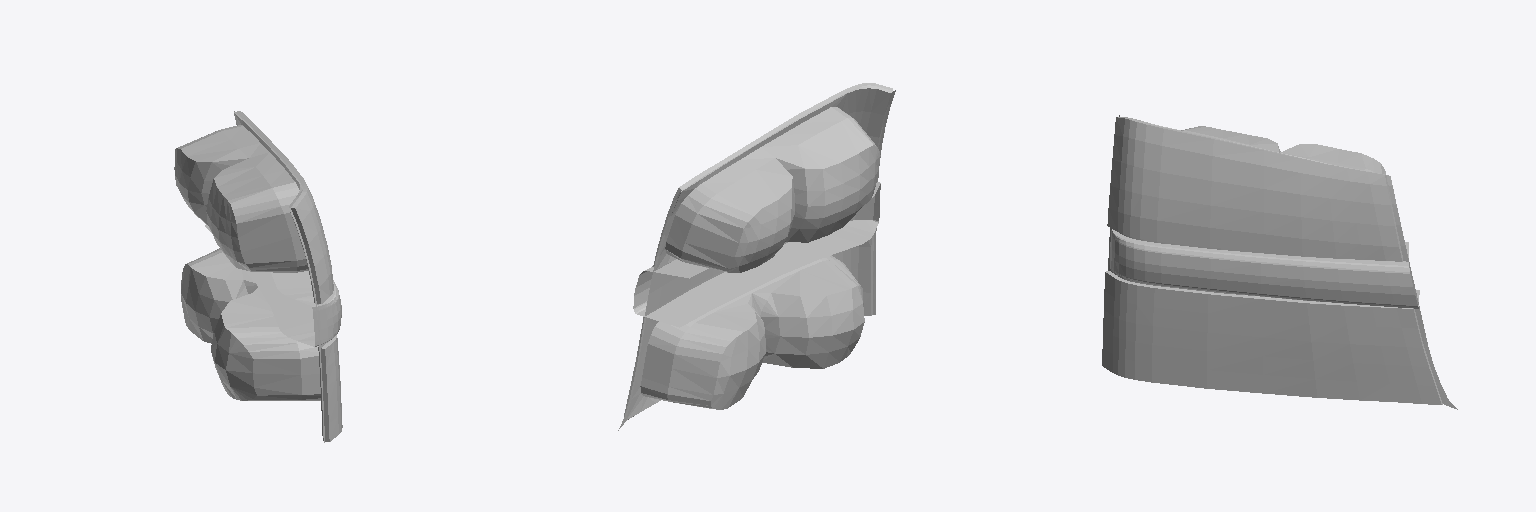
3 views of the same model, side by side, from view 1: azimuth 30°, elevation 25°; view 2: azimuth 150°, elevation 25°; view 3: azimuth 270°, elevation 25° (orthographic).
Visible parts, largest first — view 1: U803_3A_061B_R_U803_3A_061B_R_3_N, U803_3A_061B_R_1_DaS_U803_3A_061B_R, U803_3A_061B_R_U803_3A_061B_R_2_DTaSI, U803_3A_061B_R_U803_3A_061B_R_5_DTaSI; view 2: U803_3A_061B_R_U803_3A_061B_R_3_N, U803_3A_061B_R_1_DaS_U803_3A_061B_R, U803_3A_061B_R_U803_3A_061B_R_4_D, U803_3A_061B_R_U803_3A_061B_R_2_DTaSI; view 3: U803_3A_061B_R_U803_3A_061B_R_5_DTaSI, U803_3A_061B_R_U803_3A_061B_R_2_DTaSI, U803_3A_061B_R_1_DaS_U803_3A_061B_R, U803_3A_061B_R_U803_3A_061B_R_3_N, U803_3A_061B_R_U803_3A_061B_R_4_D.
Part boxes in pixels (bbox=[...]): U803_3A_061B_R_U803_3A_061B_R_3_N: bbox=[174, 112, 323, 440]; U803_3A_061B_R_1_DaS_U803_3A_061B_R: bbox=[205, 225, 341, 346]; U803_3A_061B_R_U803_3A_061B_R_2_DTaSI: bbox=[236, 111, 333, 303]; U803_3A_061B_R_U803_3A_061B_R_5_DTaSI: bbox=[321, 335, 342, 441]; U803_3A_061B_R_U803_3A_061B_R_3_N: bbox=[626, 85, 892, 420]; U803_3A_061B_R_1_DaS_U803_3A_061B_R: bbox=[633, 182, 880, 327]; U803_3A_061B_R_U803_3A_061B_R_4_D: bbox=[618, 90, 895, 430]; U803_3A_061B_R_U803_3A_061B_R_2_DTaSI: bbox=[653, 83, 892, 266]; U803_3A_061B_R_U803_3A_061B_R_5_DTaSI: bbox=[1102, 271, 1442, 404]; U803_3A_061B_R_U803_3A_061B_R_2_DTaSI: bbox=[1107, 117, 1402, 261]; U803_3A_061B_R_1_DaS_U803_3A_061B_R: bbox=[1110, 228, 1419, 308]; U803_3A_061B_R_U803_3A_061B_R_3_N: bbox=[1127, 117, 1385, 300]; U803_3A_061B_R_U803_3A_061B_R_4_D: bbox=[1108, 115, 1457, 409].
Bounding box in the file's own units: 15.84 × 28.37 × 36.78.